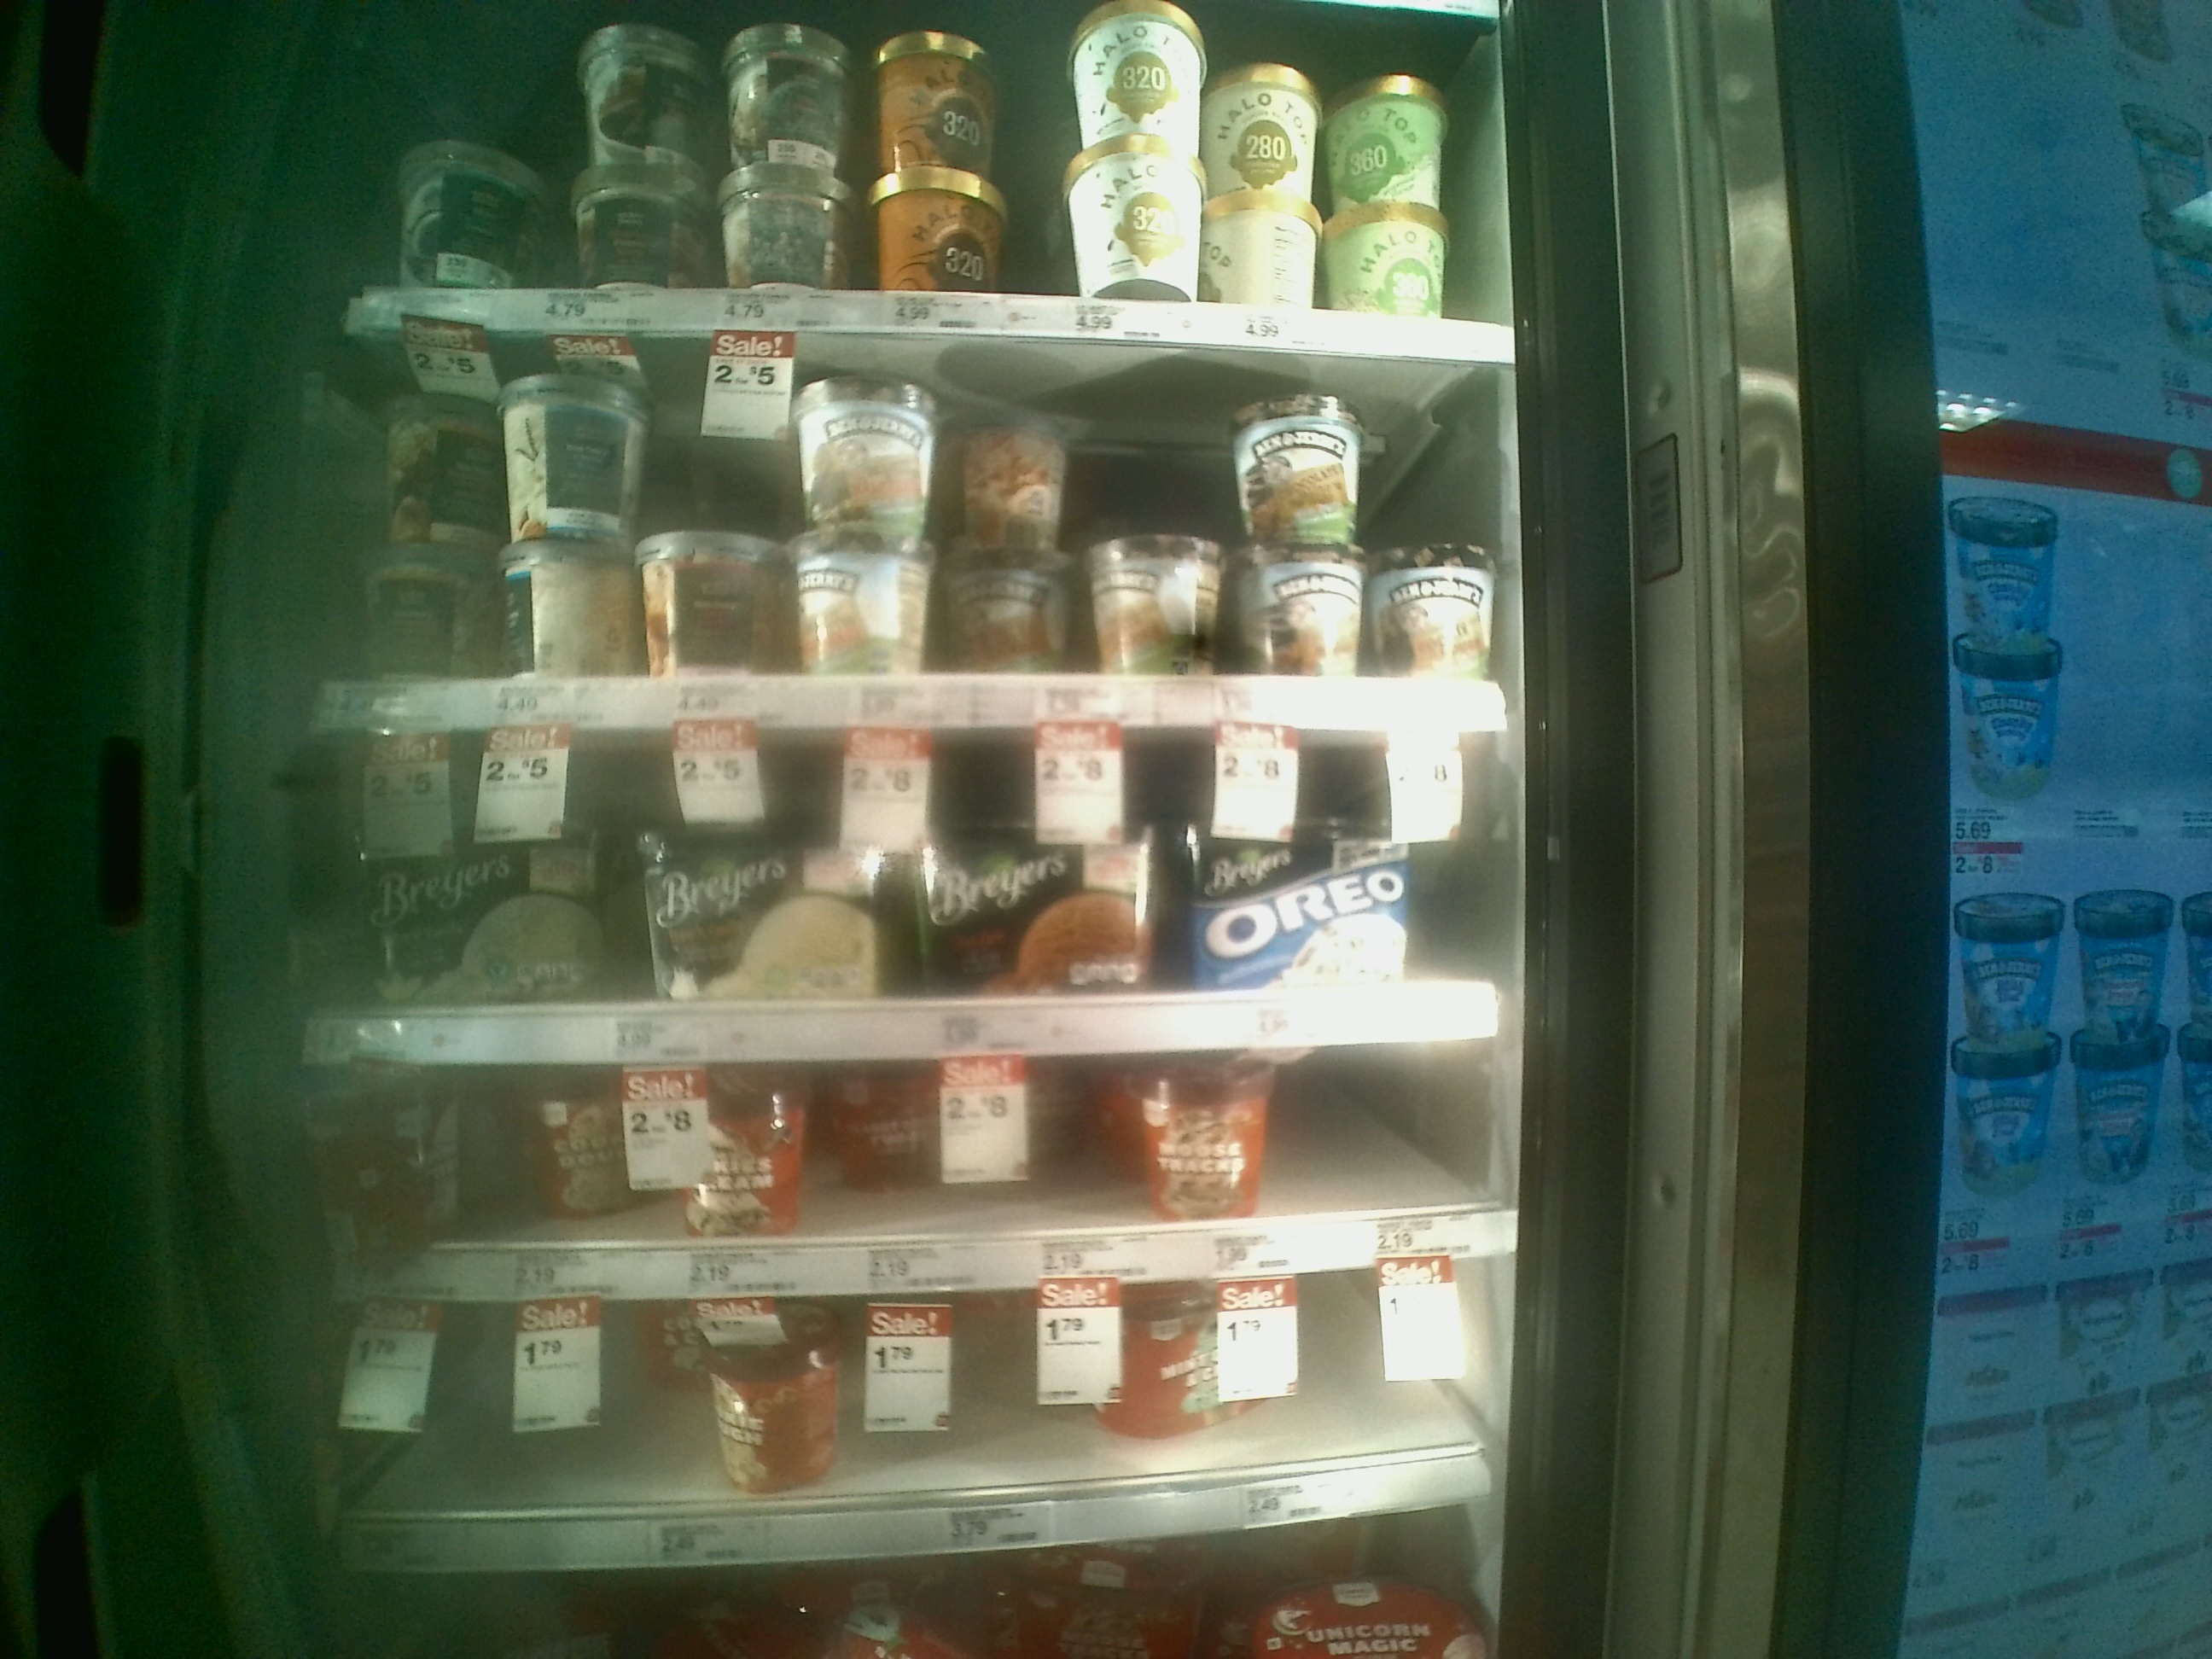shelf: (320, 335, 1514, 723), (319, 723, 1515, 1054), (326, 1293, 1526, 1554), (329, 1054, 1536, 1291)
